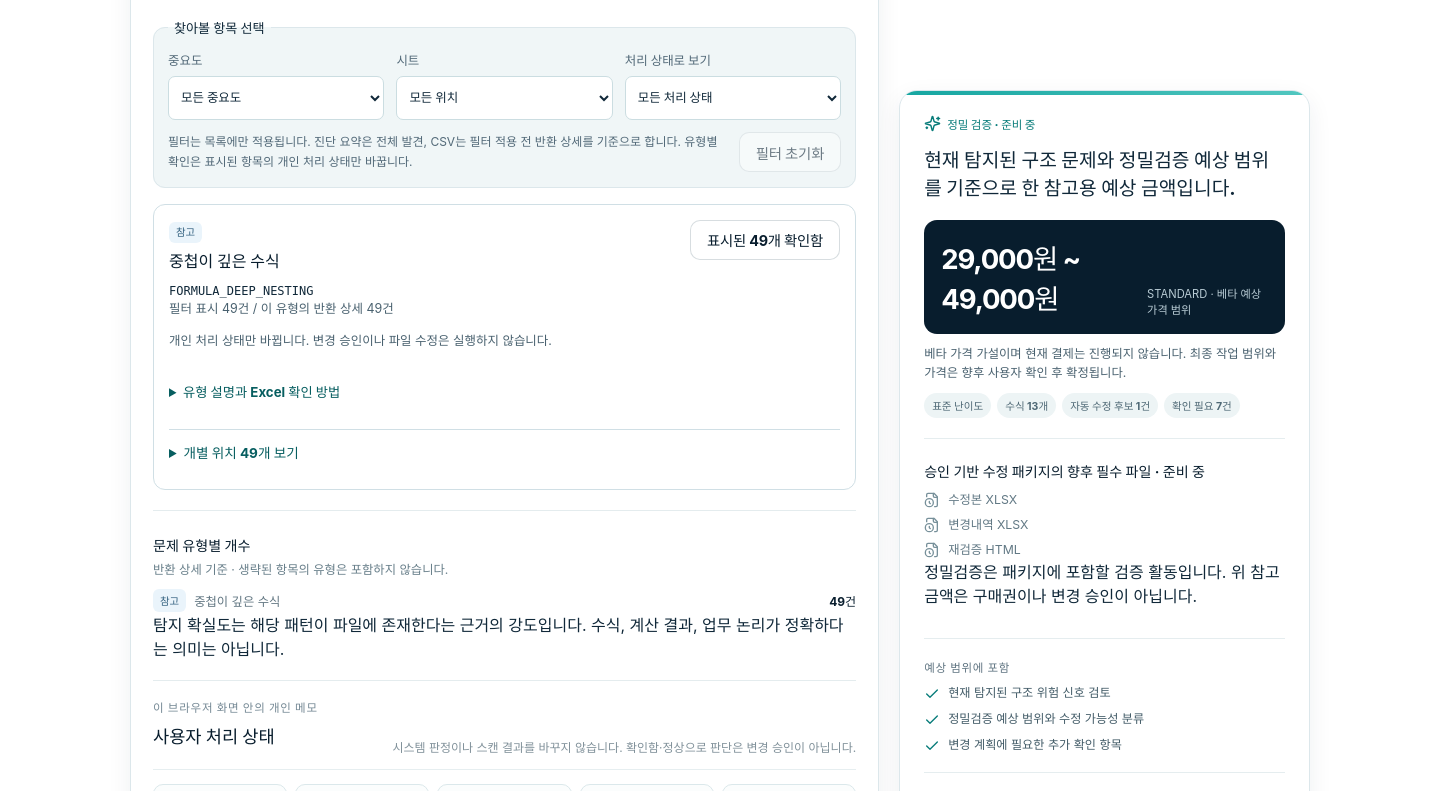
Scenario: same-rule finding groups › shows the common title once and retains individual location/evidence/status details
This screenshot has width=1440, height=791.
(page scrolled)
Check: the number of headings "중첩이 깊은 수식" is 1, box [169,250,280,270]
Click the heading "개별 위치 49개 보기": (241, 453) [183,445,299,461]
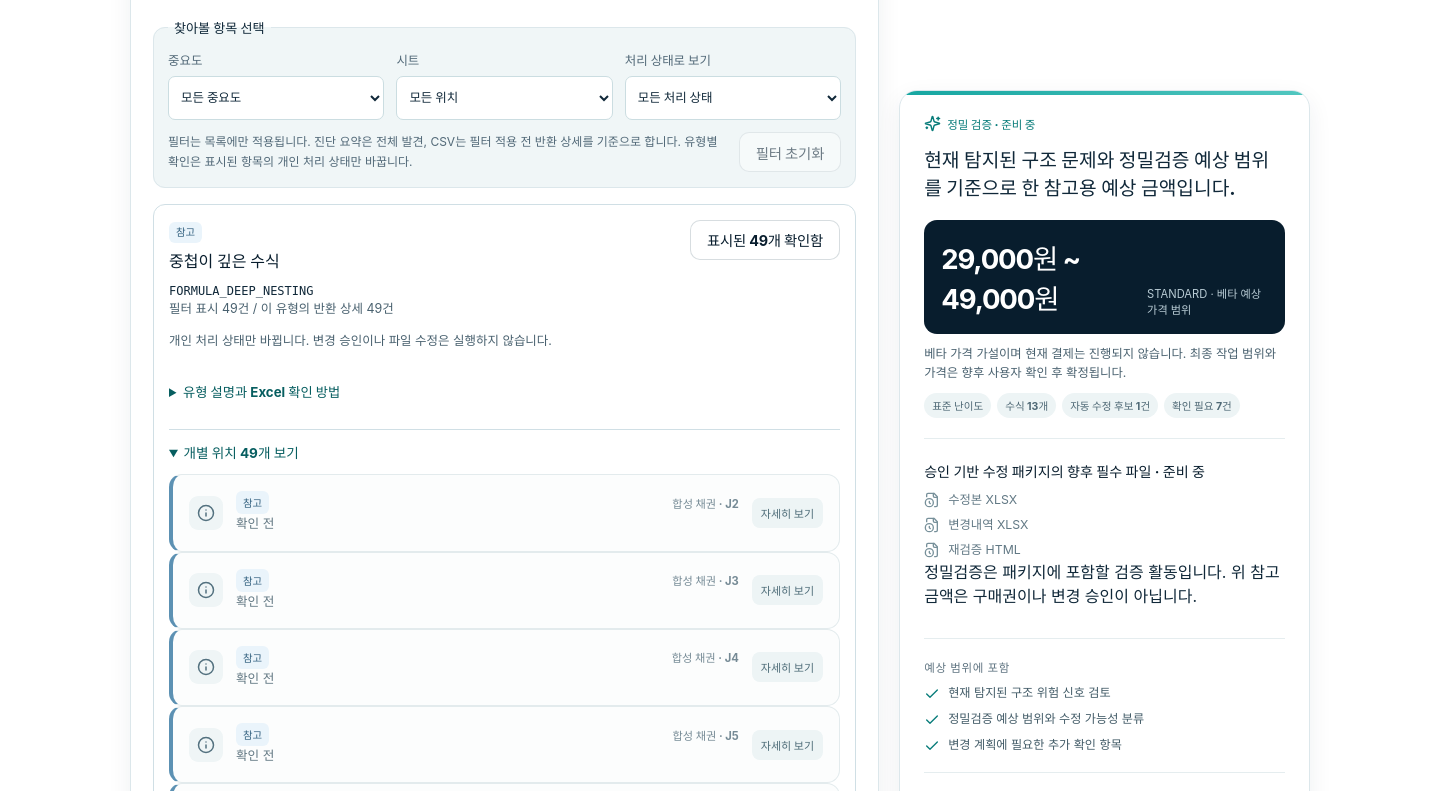
Click the heading "참고 합성 채권 · J2 확인 전 자세히 보기": (206, 513) [189,491,823,531]
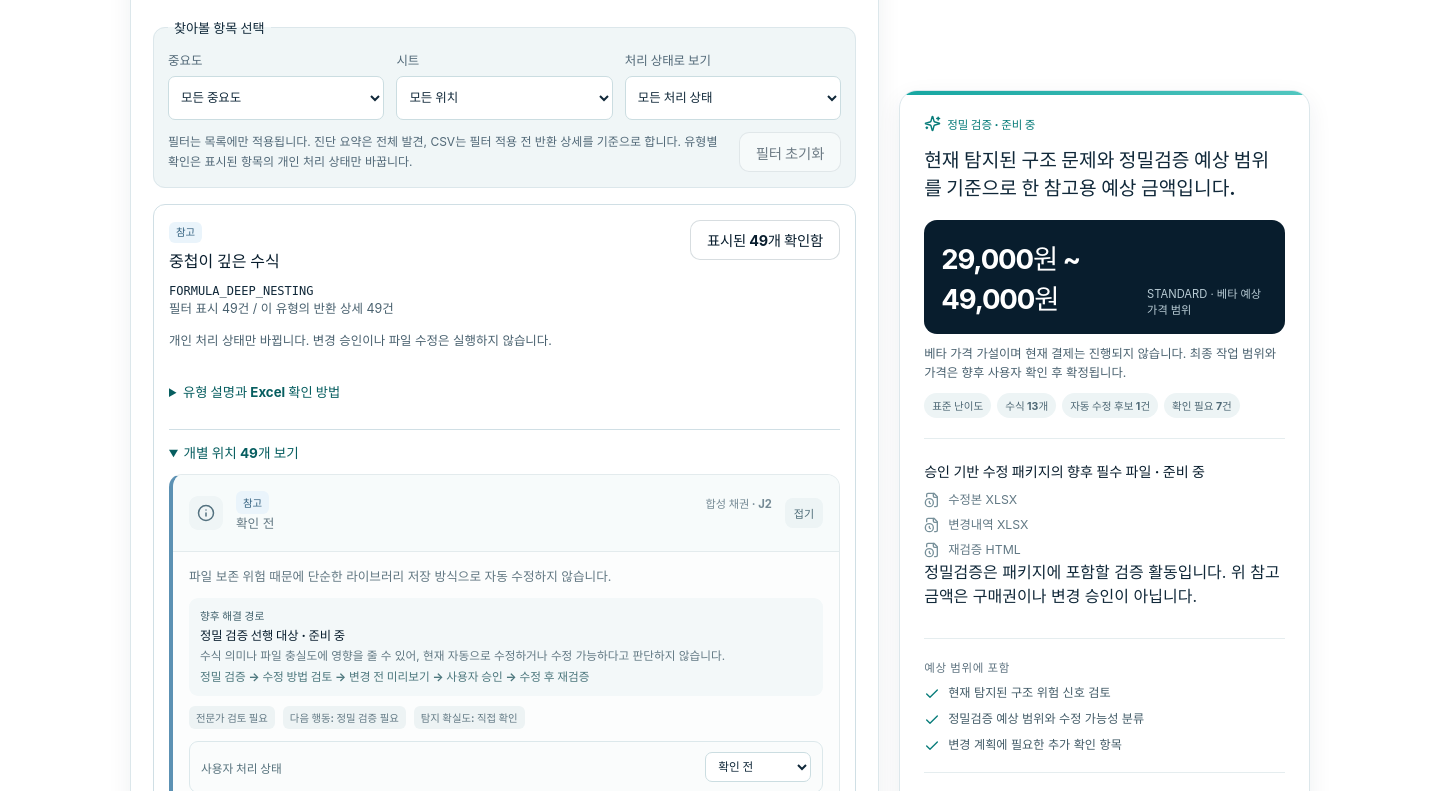
Check: the element with class "finding" shows "합성 채권 · J2", box [705,497,772,511]
Check: the dropdown named "FORMULA_DEEP_NESTING 사용자 처리 상태" is shown, box [705,752,811,782]
Check: the element with class "finding" shows "파일 보존 위험 때문에 단순한 라이브러리 저장 방식으로 자동 수정하지 않습니다.", box [189,569,612,584]
